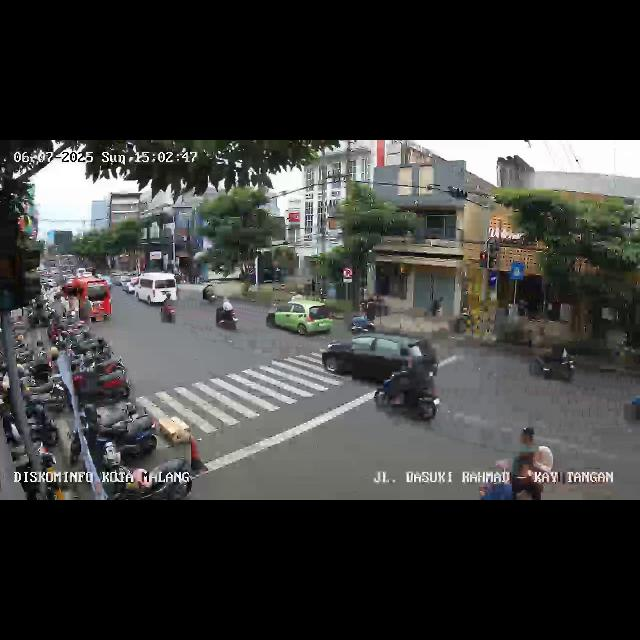car: (321, 329, 434, 387), (266, 296, 334, 340), (60, 278, 112, 324), (134, 272, 178, 306)
motorcycle: (375, 353, 441, 427), (528, 339, 576, 385), (618, 380, 640, 438), (213, 296, 240, 332), (349, 311, 376, 335), (160, 293, 178, 325)
person: (512, 445, 556, 499), (480, 456, 512, 499), (514, 424, 534, 476)
